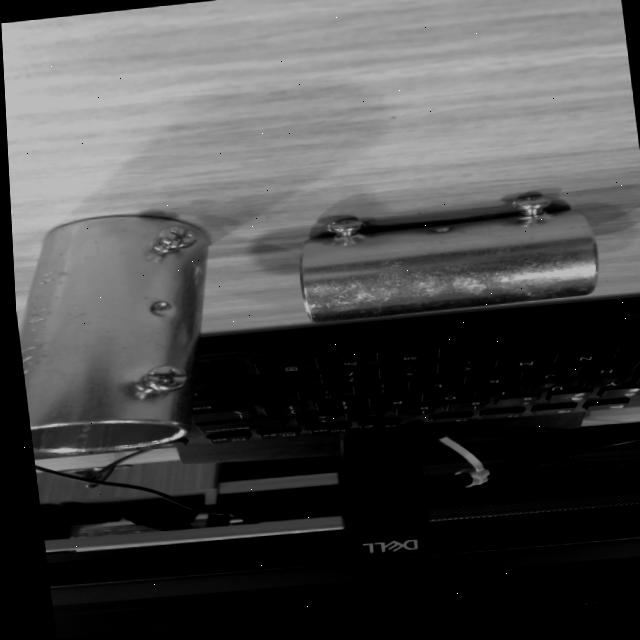Co_Lon: (6, 203, 210, 469)
Co_Nho: (293, 189, 600, 324)
